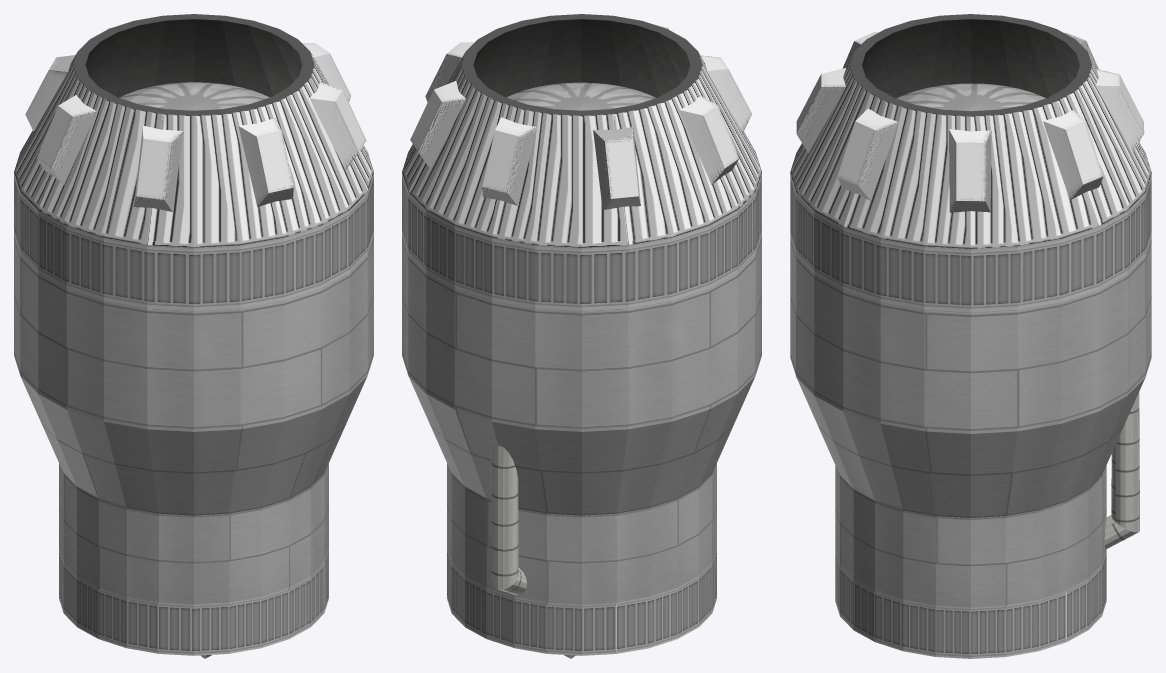
Rendered from CENTAUR_T_uni.dae.
3 renders of one model, left to right at view 1: azimuth 30°, elevation 25°; view 2: azimuth 150°, elevation 25°; view 3: azimuth 270°, elevation 25°, orthographic.
Visible parts, largest first — view 1: Cylinder2-0; view 2: Cylinder2-0; view 3: Cylinder2-0.
Part boxes in pixels (<box>): Cylinder2-0: <box>14,14,373,658</box>; Cylinder2-0: <box>402,14,761,658</box>; Cylinder2-0: <box>790,14,1151,658</box>.
Bounding box in the file's own units: 4 × 6.96 × 4.
